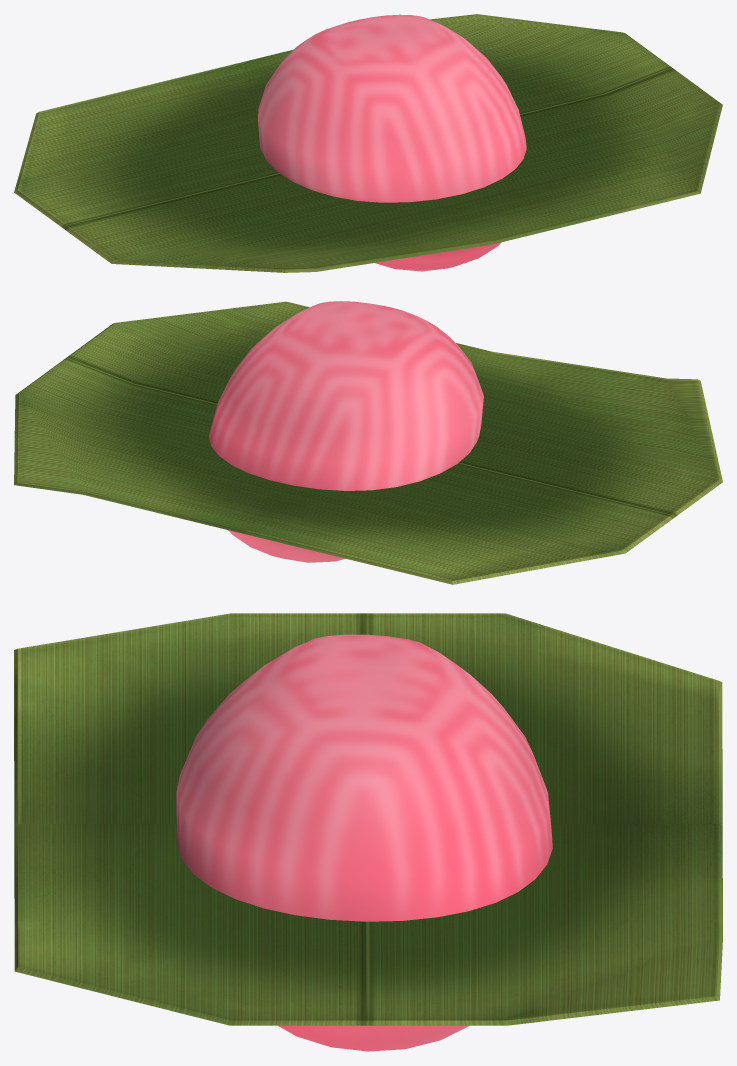
The model's file is cake.fbx.
3 renders of one model, top to bottom at view 1: azimuth 30°, elevation 25°; view 2: azimuth 150°, elevation 25°; view 3: azimuth 270°, elevation 25°, orthographic. The views are drawn at different scales.
Visible parts, largest first — view 1: leaf, daugh; view 2: leaf, daugh; view 3: leaf, daugh.
Boxes of the visible parts, x1=… form: leaf: x1=14, y1=14, x2=722, y2=272; daugh: x1=258, y1=14, x2=526, y2=271; leaf: x1=14, y1=301, x2=722, y2=584; daugh: x1=209, y1=301, x2=483, y2=562; leaf: x1=14, y1=613, x2=722, y2=1025; daugh: x1=176, y1=634, x2=552, y2=1051.
Bounding box in the file's own units: 13.94 × 5.28 × 9.82.
